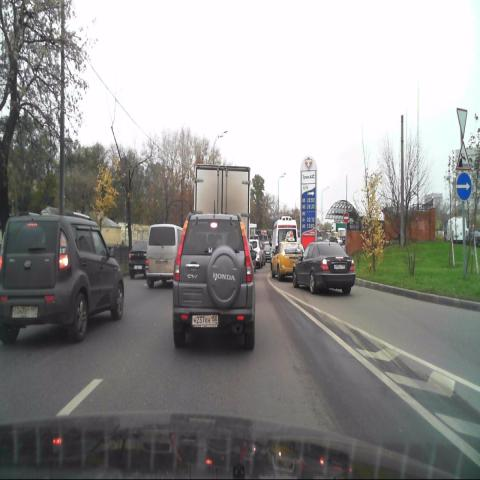1_10: (456, 141, 471, 170)
4_1_2_1: (455, 170, 472, 201)
